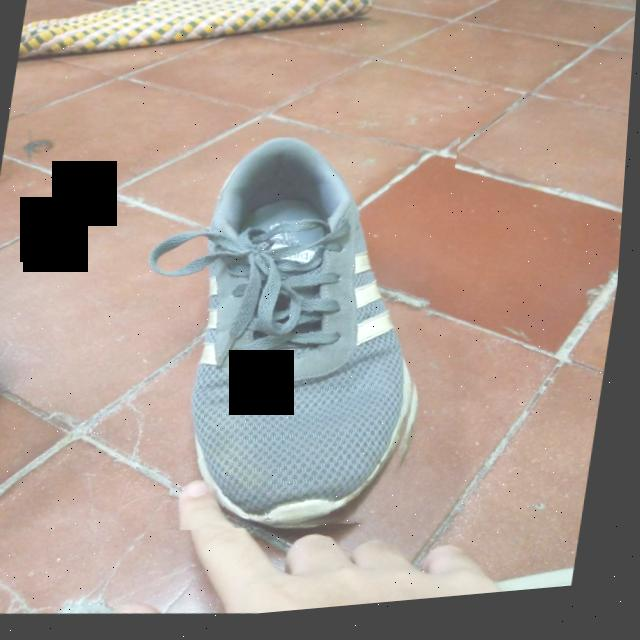shoe: (170, 124, 464, 556)
